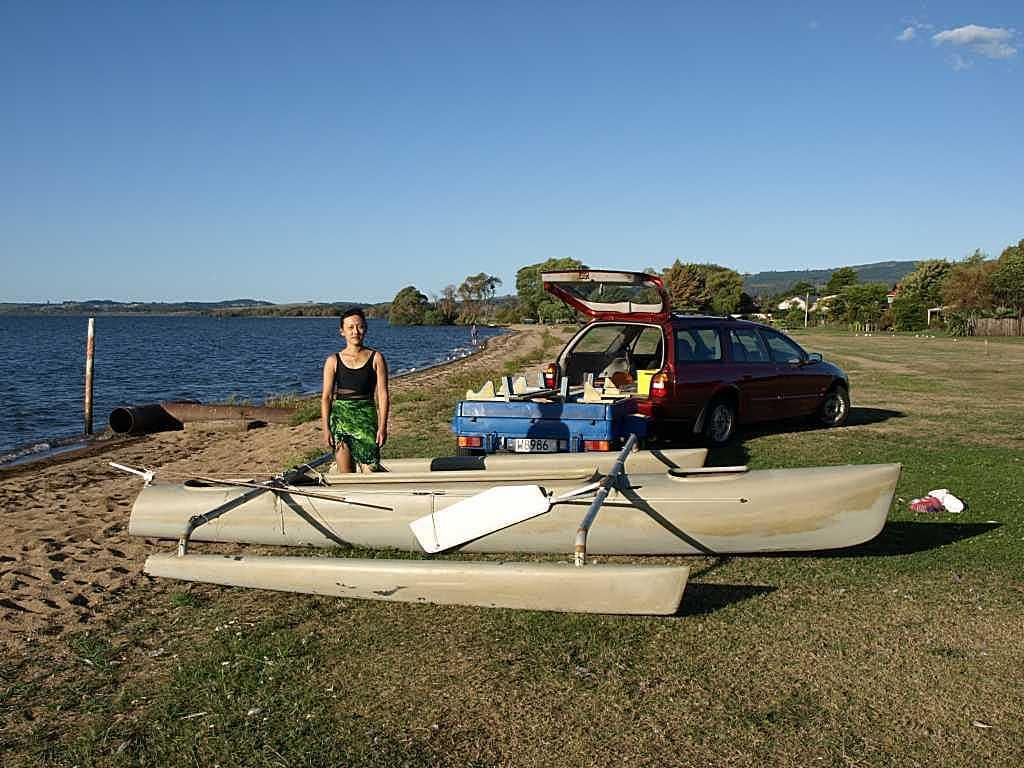face: (344, 319, 365, 343)
